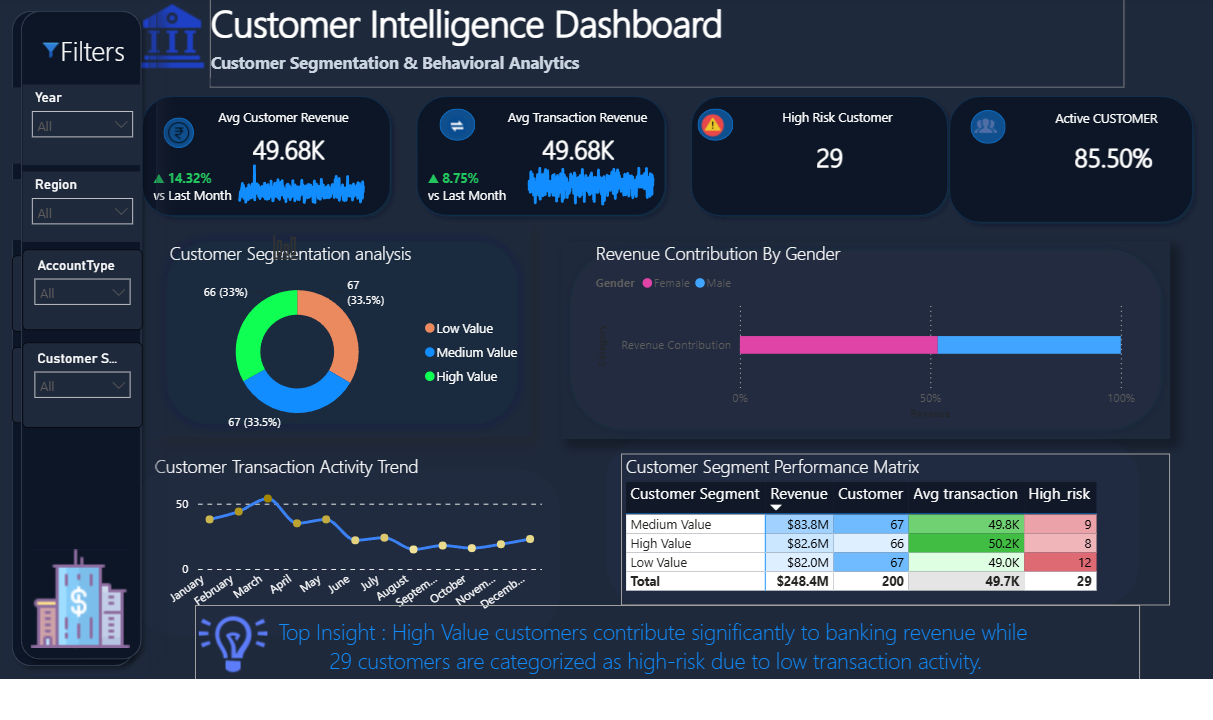

The dashboard page shown, as its layout file describes it:
{"tool":"powerbi","page":{"name":"Customer_intelligence","canvas":[1280,720],"ordinal":1},"visuals":[{"type":"shape","box":[0,0,160,720],"z":0,"group":"g5"},{"type":"shape","box":[10,0,158.4,713],"z":0,"group":"g8"},{"type":"shape","box":[144,96,279.2,144.2],"z":0,"group":"g4"},{"type":"group","id":"g1","title":"total_revenue_KPI","box":[432,96,279.5,176],"z":0,"group":"g6"},{"type":"shape","box":[432,96,279.5,143.8],"z":0,"group":"g1"},{"type":"shape","box":[720,96,288,144],"z":0,"group":"g2"},{"type":"shape","box":[992,96,274.3,151.1],"z":0,"group":"g3"},{"type":"shape","box":[640,464,560,176],"z":0},{"type":"card","fields":{"Values":["measure table.Customer Insight"]},"box":[288,640,800,80],"z":0,"group":"g7"},{"type":"actionButton","box":[42.8,29.2,97.4,53.2],"z":1000,"group":"g8"},{"type":"actionButton","box":[32,32,96,48],"z":1000,"group":"g5"},{"type":"group","id":"g2","title":"total_customer_KPI","box":[720,96,288,144],"z":1000,"group":"g6"},{"type":"shape","box":[464.4,117.8,37.7,33.8],"z":1000,"group":"g1"},{"type":"shape","box":[736.4,117.8,37.7,33.8],"z":1000,"group":"g2"},{"type":"shape","box":[1023.8,118.9,37,35.5],"z":1000,"group":"g3"},{"type":"shape","box":[176,128,32,32],"z":1000,"group":"g4"},{"type":"shape","box":[144,496,448,176],"z":1000},{"type":"actionButton","box":[208,640,992,80],"z":1000,"group":"g7"},{"type":"slicer","fields":{"Values":["Calendar.Year"]},"box":[27.3,92.8,126,84.4],"z":2000,"group":"g8"},{"type":"slicer","fields":{"Values":["Calendar.Year"]},"box":[16,96,128,80],"z":2000,"group":"g5"},{"type":"group","id":"g3","title":"mom_growth_KPI","box":[992,96,274.3,151.1],"z":2000,"group":"g6"},{"type":"actionButton","box":[736,112,32,48],"z":2000,"group":"g2"},{"type":"actionButton","box":[1024,112,32,48],"z":2000,"group":"g3"},{"type":"actionButton","box":[465.9,119.8,35.1,33.8],"z":2000,"group":"g1"},{"type":"actionButton","box":[176,128,32,32],"z":2000,"group":"g4"},{"type":"shape","box":[592,256,640,208],"z":2000},{"type":"group","id":"g4","title":"total_revenue_KPI","box":[144,96,304,192],"z":3000,"group":"g6"},{"type":"textbox","box":[224,112,224,32],"z":3000,"group":"g4"},{"type":"textbox","box":[528,112,176,64],"z":3000,"group":"g1"},{"type":"textbox","box":[816,112,160,32],"z":3000,"group":"g2"},{"type":"textbox","box":[1103.9,113.6,136.8,76.5],"z":3000,"group":"g3"},{"type":"slicer","fields":{"Values":["Branches.Region"]},"box":[27.3,183.8,126,74],"z":3000,"group":"g8"},{"type":"slicer","fields":{"Values":["Branches.Region"]},"box":[16,192,128,64],"z":3000,"group":"g5"},{"type":"shape","box":[160,240,400,224],"z":3000},{"type":"shape","title":"Customer Intelligence Dashboard","box":[224,0,960,96],"z":4000},{"type":"cardVisual","fields":{"Data":["measure table.average_transaction"]},"box":[240,128,160,64],"z":4000,"group":"g4"},{"type":"cardVisual","fields":{"Data":["measure table.average_transaction_value"]},"box":[544,128,144,64],"z":4000,"group":"g1"},{"type":"cardVisual","fields":{"Data":["measure table.High_risk"]},"box":[832,128,144,80],"z":4000,"group":"g2"},{"type":"cardVisual","fields":{"Data":["measure table.Active_Customers_Percentage"]},"box":[1104,128,144,80],"z":4000,"group":"g3"},{"type":"slicer","fields":{"Values":["Accounts.AccountType"]},"box":[27.3,266.9,126,84.4],"z":4000,"group":"g8"},{"type":"slicer","fields":{"Values":["Accounts.AccountType"]},"box":[16,272,128,80],"z":4000,"group":"g5"},{"type":"textbox","box":[160,176,128,96],"z":5000,"group":"g4"},{"type":"textbox","box":[448,176,112,96],"z":5000,"group":"g1"},{"type":"hundredPercentStackedBarChart","title":"Revenue Contribution By Gender","fields":{"Series":["Customers.Gender"],"Y":["measure table.total_revenue"],"Category":["measure table.Category"]},"box":[624,256,576,192],"z":5000},{"type":"slicer","fields":{"Values":["Customers.Customer Segment"]},"box":[27.3,363.6,126,89.6],"z":5000,"group":"g8"},{"type":"slicer","fields":{"Values":["Customers.Customer Segment"]},"box":[16,368,128,80],"z":5000,"group":"g5"},{"type":"actionButton","box":[144.2,2.6,103.9,77.9],"z":6000},{"type":"areaChart","fields":{"Y":["measure table.total_revenue"],"Category":["Calendar.Date.Variation.Date Hierarchy.Year"]},"box":[192,240,224,48],"z":6000,"group":"g4"},{"type":"group","id":"g5","title":"filter ","box":[0,0,160,720],"z":8000},{"type":"donutChart","title":"Customer Segmentation analysis","fields":{"Category":["Customers.Customer Segment"],"Y":["measure table.total_customer"]},"box":[176,256,384,208],"z":10000},{"type":"lineChart","title":"Customer Transaction Activity Trend","fields":{"Category":["Calendar.Date.Variation.Date Hierarchy.Month"],"Y":["measure table.total_transactions"]},"box":[160,480,416,176],"z":11000},{"type":"pivotTable","title":"Customer Segment Performance Matrix","fields":{"Values":["measure table.total_revenue","measure table.total_customer","measure table.average_transaction_value","measure table.High_risk"],"Rows":["Customers.Customer Segment"]},"box":[656,480,576,160],"z":12000},{"type":"group","id":"g6","title":"kpi","box":[144,96,1122.3,192],"z":13000},{"type":"group","id":"g7","title":"Group 1","box":[208,640,992,80],"z":14000},{"type":"lineChart","fields":{"Y":["measure table.avg_customer_revenue"],"Category":["Calendar.Date"]},"box":[240,160,160,64],"z":14001},{"type":"lineChart","fields":{"Y":["measure table.average_transaction_value"],"Category":["Calendar.Date"]},"box":[544,160,160,64],"z":14002},{"type":"group","id":"g8","title":"filter ","box":[10,0,160,720],"z":14003},{"type":"actionButton","box":[32,560,112,144],"z":14004}]}

Visuals, with their boxes on the page's 1280x720 design canvas (x1, y1, x2, y2). These are canvas units, not pixel positions in the 1213x720 screenshot, which may show the page scaled, cropped or inside an application window:
shape: [0, 0, 160, 720]
shape: [10, 0, 168, 713]
shape: [144, 96, 423, 240]
"total_revenue_KPI" group: [432, 96, 712, 272]
shape: [432, 96, 712, 240]
shape: [720, 96, 1008, 240]
shape: [992, 96, 1266, 247]
shape: [640, 464, 1200, 640]
card - measure table.Customer Insight: [288, 640, 1088, 720]
actionButton: [43, 29, 140, 82]
actionButton: [32, 32, 128, 80]
"total_customer_KPI" group: [720, 96, 1008, 240]
shape: [464, 118, 502, 152]
shape: [736, 118, 774, 152]
shape: [1024, 119, 1061, 154]
shape: [176, 128, 208, 160]
shape: [144, 496, 592, 672]
actionButton: [208, 640, 1200, 720]
slicer - Calendar.Year: [27, 93, 153, 177]
slicer - Calendar.Year: [16, 96, 144, 176]
"mom_growth_KPI" group: [992, 96, 1266, 247]
actionButton: [736, 112, 768, 160]
actionButton: [1024, 112, 1056, 160]
actionButton: [466, 120, 501, 154]
actionButton: [176, 128, 208, 160]
shape: [592, 256, 1232, 464]
"total_revenue_KPI" group: [144, 96, 448, 288]
textbox: [224, 112, 448, 144]
textbox: [528, 112, 704, 176]
textbox: [816, 112, 976, 144]
textbox: [1104, 114, 1241, 190]
slicer - Branches.Region: [27, 184, 153, 258]
slicer - Branches.Region: [16, 192, 144, 256]
shape: [160, 240, 560, 464]
"Customer Intelligence Dashboard" shape: [224, 0, 1184, 96]
cardVisual - measure table.average_transaction: [240, 128, 400, 192]
cardVisual - measure table.average_transaction_value: [544, 128, 688, 192]
cardVisual - measure table.High_risk: [832, 128, 976, 208]
cardVisual - measure table.Active_Customers_Percentage: [1104, 128, 1248, 208]
slicer - Accounts.AccountType: [27, 267, 153, 351]
slicer - Accounts.AccountType: [16, 272, 144, 352]
textbox: [160, 176, 288, 272]
textbox: [448, 176, 560, 272]
"Revenue Contribution By Gender" hundredPercentStackedBarChart: [624, 256, 1200, 448]
slicer - Customers.Customer Segment: [27, 364, 153, 453]
slicer - Customers.Customer Segment: [16, 368, 144, 448]
actionButton: [144, 3, 248, 80]
areaChart - measure table.total_revenue x Calendar.Date.Variation.Date Hierarchy.Year: [192, 240, 416, 288]
"filter " group: [0, 0, 160, 720]
"Customer Segmentation analysis" donutChart: [176, 256, 560, 464]
"Customer Transaction Activity Trend" lineChart: [160, 480, 576, 656]
"Customer Segment Performance Matrix" pivotTable: [656, 480, 1232, 640]
"kpi" group: [144, 96, 1266, 288]
"Group 1" group: [208, 640, 1200, 720]
lineChart - measure table.avg_customer_revenue x Calendar.Date: [240, 160, 400, 224]
lineChart - measure table.average_transaction_value x Calendar.Date: [544, 160, 704, 224]
"filter " group: [10, 0, 170, 720]
actionButton: [32, 560, 144, 704]
